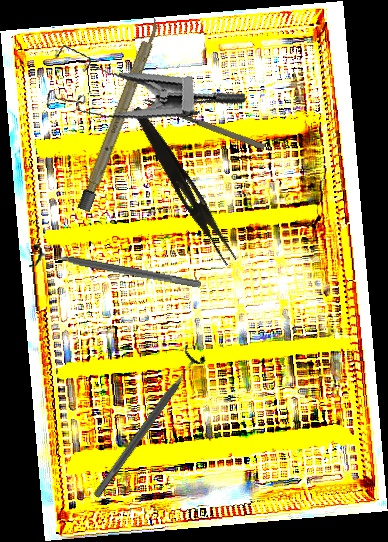Dressing Forceps: (124, 104, 243, 267)
Fixation Ring: (84, 343, 209, 504), (29, 242, 203, 298)
Needle Holder: (142, 74, 274, 154)
Scalpel Handle: (77, 16, 163, 213)
Speculum: (35, 10, 247, 146)
